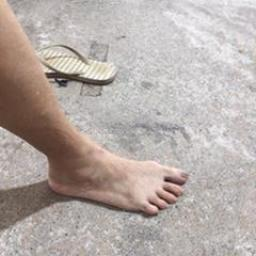Lateral View -Right Foot-: (33, 120, 192, 232)
